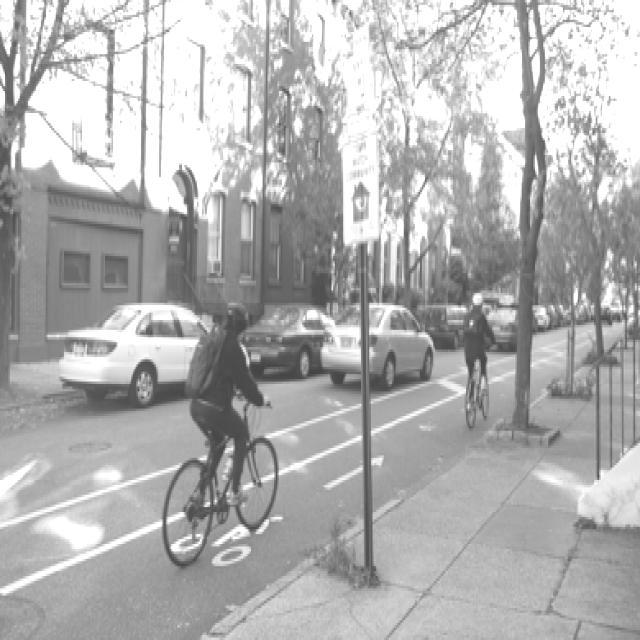Helmet: (218, 296, 253, 338), (468, 283, 490, 313)
